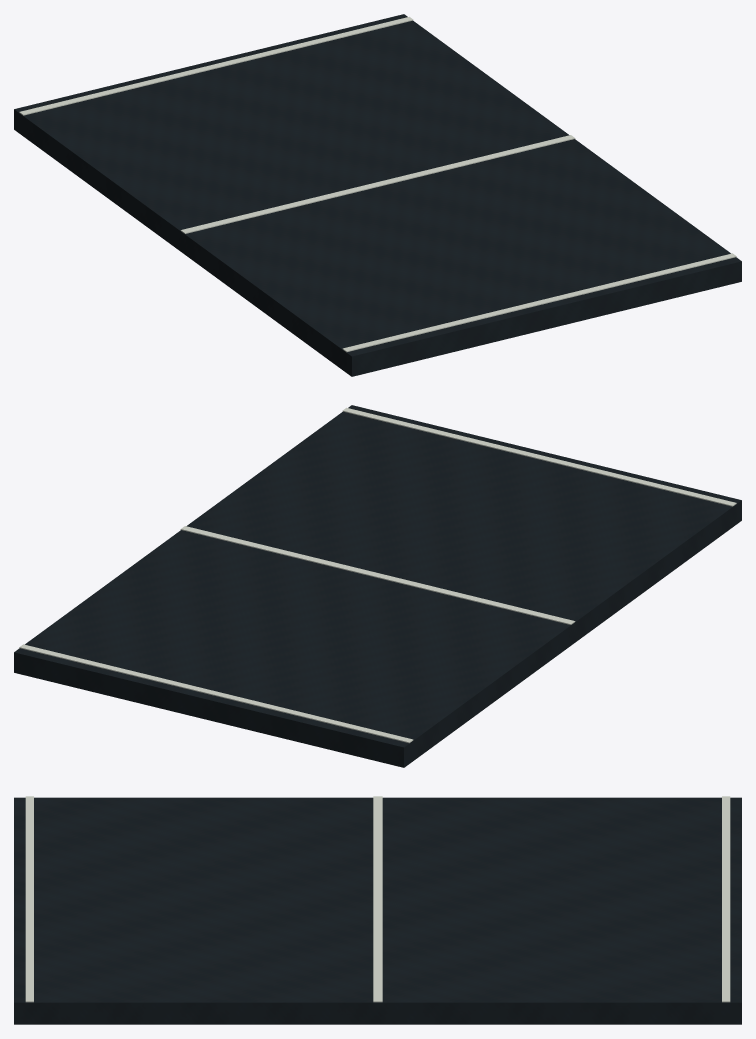
The model's file is Transit_Road_2L_Straight_4m.glb.
3 renders of one model, top to bottom at view 1: azimuth 30°, elevation 25°; view 2: azimuth 150°, elevation 25°; view 3: azimuth 270°, elevation 25°, orthographic. The views are drawn at different scales.
Visible parts, largest first — view 1: Transit_Road_2L_Straight_4m_Surface, Transit_Road_2L_Straight_4m_MarkLane1, Transit_Road_2L_Straight_4m_MarkEdge+1, Transit_Road_2L_Straight_4m_MarkEdge-1; view 2: Transit_Road_2L_Straight_4m_Surface, Transit_Road_2L_Straight_4m_MarkLane1, Transit_Road_2L_Straight_4m_MarkEdge-1, Transit_Road_2L_Straight_4m_MarkEdge+1; view 3: Transit_Road_2L_Straight_4m_Surface, Transit_Road_2L_Straight_4m_MarkLane1, Transit_Road_2L_Straight_4m_MarkEdge-1, Transit_Road_2L_Straight_4m_MarkEdge+1.
Boxes of the visible parts, left/top/right/bottom form: Transit_Road_2L_Straight_4m_Surface: left=14, top=14, right=741, bottom=376; Transit_Road_2L_Straight_4m_MarkLane1: left=180, top=135, right=575, bottom=233; Transit_Road_2L_Straight_4m_MarkEdge+1: left=19, top=16, right=413, bottom=115; Transit_Road_2L_Straight_4m_MarkEdge-1: left=342, top=253, right=736, bottom=352; Transit_Road_2L_Straight_4m_Surface: left=14, top=405, right=741, bottom=767; Transit_Road_2L_Straight_4m_MarkLane1: left=180, top=526, right=575, bottom=624; Transit_Road_2L_Straight_4m_MarkEdge-1: left=342, top=407, right=736, bottom=506; Transit_Road_2L_Straight_4m_MarkEdge+1: left=19, top=644, right=413, bottom=743; Transit_Road_2L_Straight_4m_Surface: left=14, top=797, right=741, bottom=1024; Transit_Road_2L_Straight_4m_MarkLane1: left=373, top=796, right=382, bottom=1002; Transit_Road_2L_Straight_4m_MarkEdge-1: left=25, top=796, right=33, bottom=1002; Transit_Road_2L_Straight_4m_MarkEdge+1: left=722, top=796, right=730, bottom=1002.
Size of the model in its own units: 4 by 0.212 by 6.
Materials: 2 (1 with a texture image).
